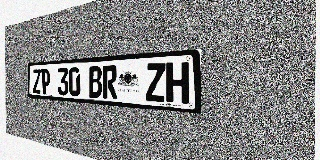0: (68, 67, 80, 97)
3: (58, 68, 68, 96)
B: (89, 66, 102, 98)
H: (166, 62, 189, 104)
P: (41, 68, 50, 95)
R: (102, 65, 118, 99)
Z: (145, 63, 165, 102), (33, 69, 41, 94)
